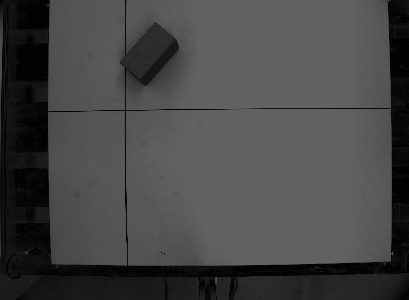b2: (117, 18, 182, 89)
